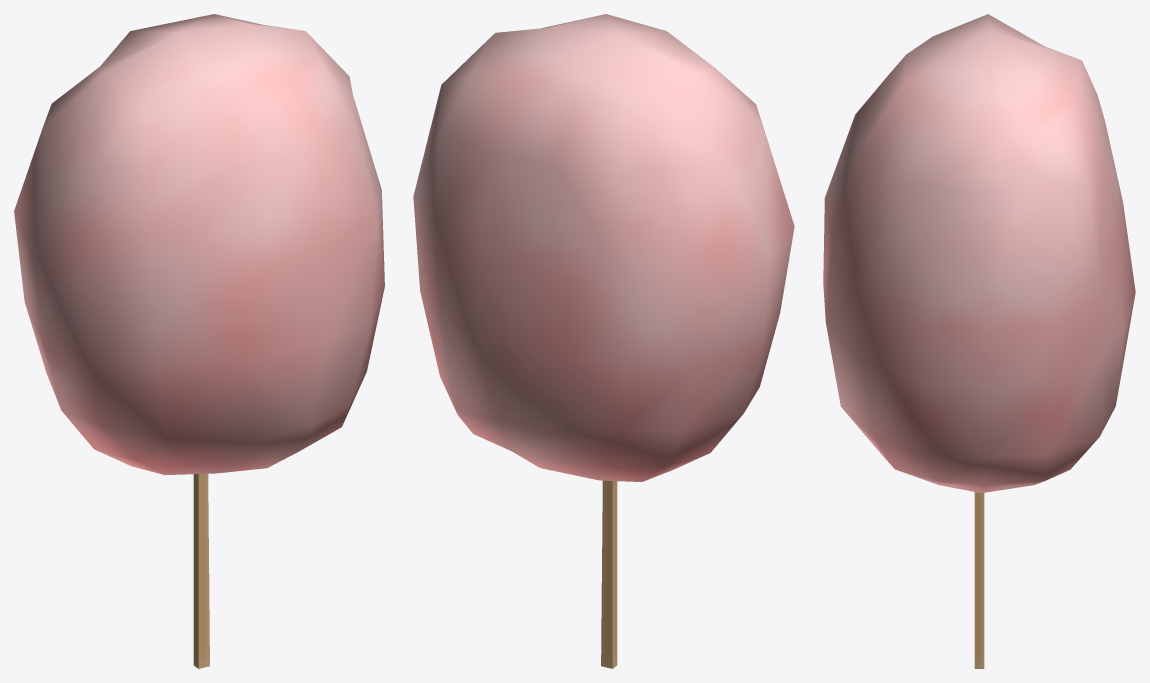
Rendered from jsf_CottonCandy_02S.fbx.
The picture shows the model from 3 angles, left to right: view 1: azimuth 30°, elevation 25°; view 2: azimuth 150°, elevation 25°; view 3: azimuth 270°, elevation 25°; orthographic projection.
Visible parts, largest first — view 1: jsf_CottonCandy_02S; view 2: jsf_CottonCandy_02S; view 3: jsf_CottonCandy_02S.
Boxes of the visible parts, box(x1,y1,x2,y2) form: jsf_CottonCandy_02S: box(14, 14, 384, 668); jsf_CottonCandy_02S: box(413, 14, 794, 668); jsf_CottonCandy_02S: box(823, 14, 1135, 668).
Bounding box in the file's own units: 16.1 × 29.18 × 13.17.
